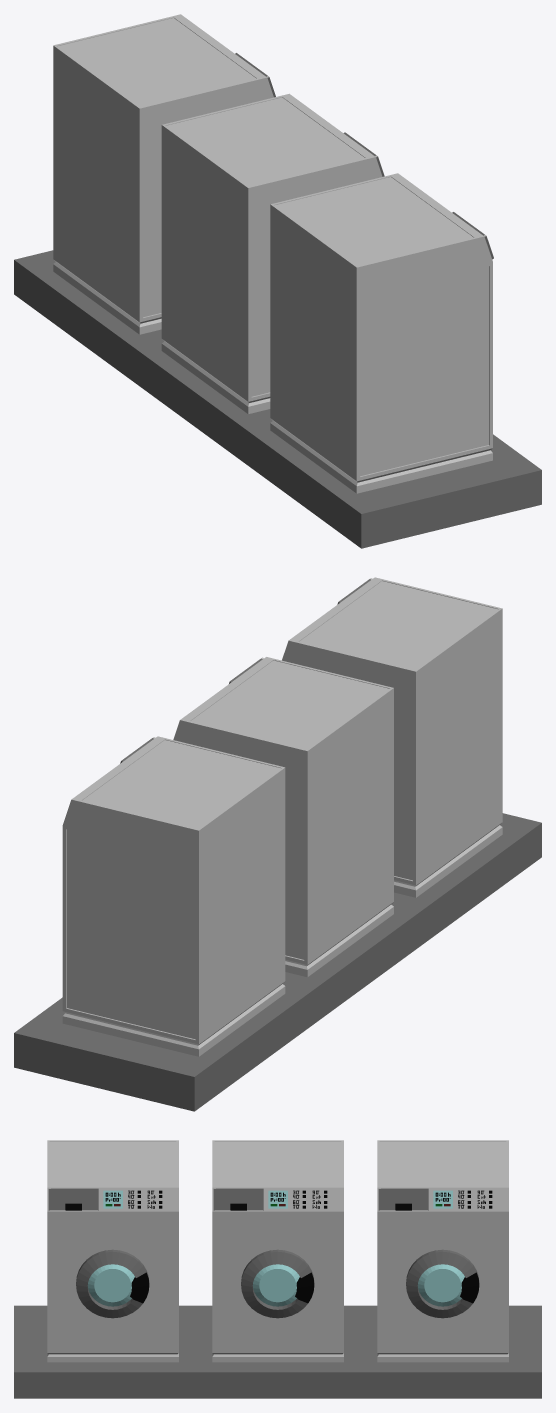
Rendered from washingMaschines.fbx.
3 views of the same model, one above another, from view 1: azimuth 30°, elevation 25°; view 2: azimuth 150°, elevation 25°; view 3: azimuth 270°, elevation 25° (orthographic). The views are drawn at different scales.
Parts seen in each view (by area): view 1: Cylinder.001; view 2: Cylinder.001; view 3: Cylinder.001.
Boxes of the visible parts, x1,y1,x2,y2 form: Cylinder.001: (14,14,541,548); Cylinder.001: (14,577,541,1111); Cylinder.001: (14,1140,541,1398).
Size of the model in its own units: 240 by 331 by 800.
